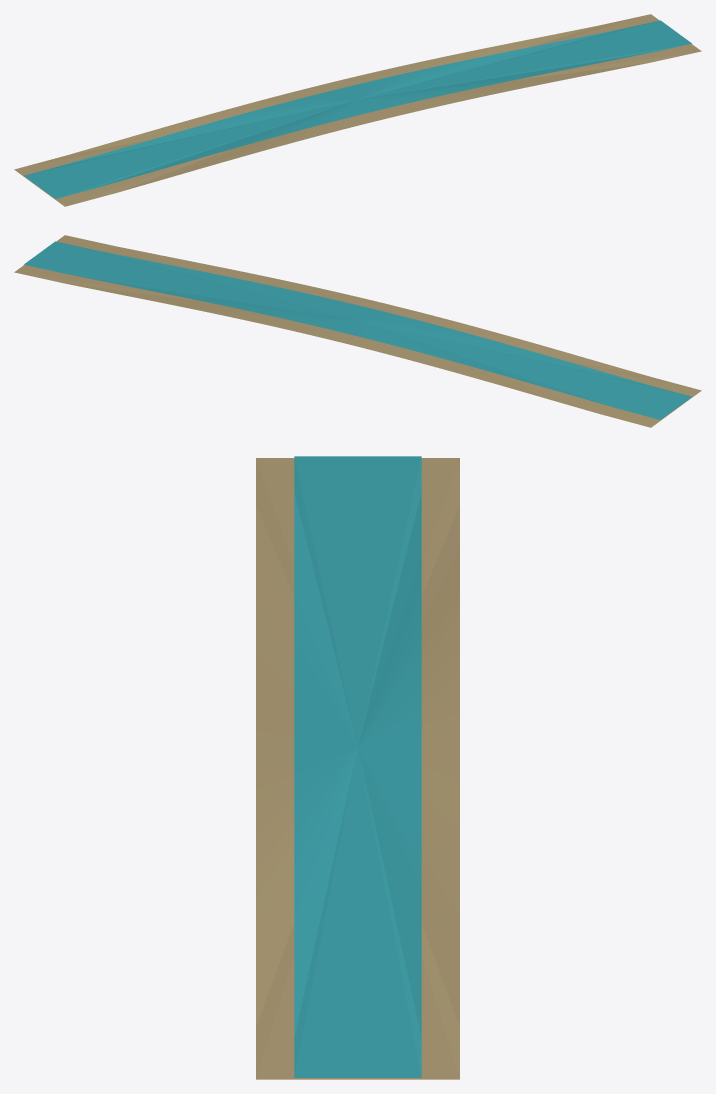
The model's file is RIVER_09.fbx.
3 renders of one model, top to bottom at view 1: azimuth 30°, elevation 25°; view 2: azimuth 150°, elevation 25°; view 3: azimuth 270°, elevation 25°, orthographic. The views are drawn at different scales.
Visible parts, largest first — view 1: Channel_surface.009, Channel_surface.008; view 2: Channel_surface.009, Channel_surface.008; view 3: Channel_surface.009, Channel_surface.008.
Boxes of the visible parts, left/top/right/bottom form: Channel_surface.009: left=24, top=20, right=691, bottom=198; Channel_surface.008: left=14, top=14, right=701, bottom=206; Channel_surface.009: left=24, top=241, right=691, bottom=419; Channel_surface.008: left=14, top=235, right=701, bottom=427; Channel_surface.009: left=294, top=456, right=421, bottom=1077; Channel_surface.008: left=256, top=458, right=459, bottom=1079.
Bounding box in the file's own units: 173 × 2.8 × 24.
